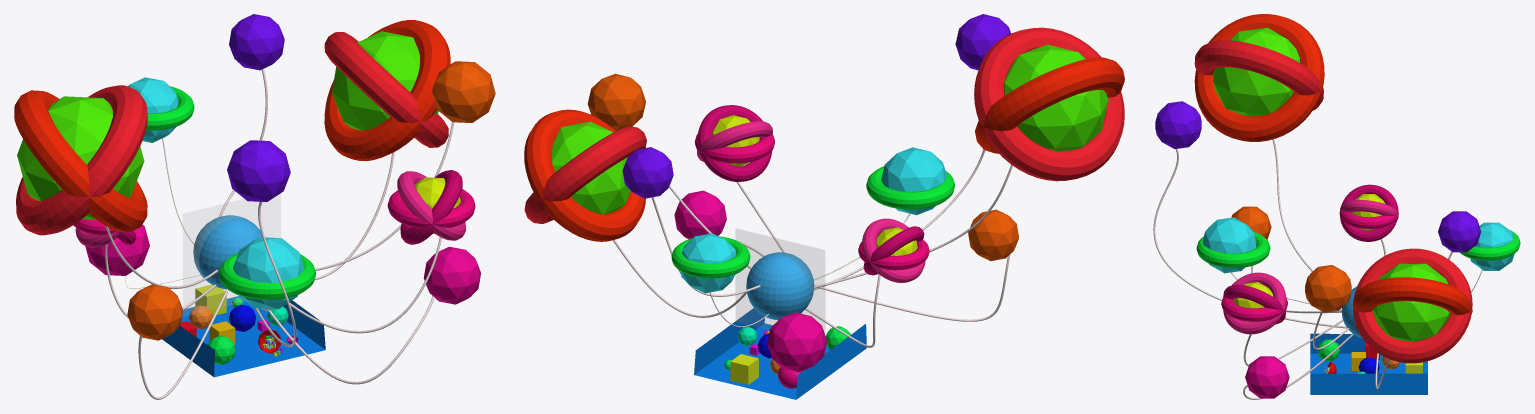
File: modelo.glb
3 renders of one model, left to right at view 1: azimuth 30°, elevation 25°; view 2: azimuth 150°, elevation 25°; view 3: azimuth 270°, elevation 25°, orthographic. The views are drawn at different scales.
Parts seen in each view (by area): view 1: Torus.007, Torus.009, Torus.006, Plane.001, Icosphere.015, Torus.005, Plane, Icosphere.011, Icosphere.013, Icosphere.014, Icosphere.012, Sphere (+24 smaller); view 2: Torus.007, Icosphere.015, Torus.006, Plane.001, Torus.009, Torus.005, Plane, Sphere, Icosphere.011, Icosphere.010, Icosphere.013, Icosphere.012 (+17 smaller); view 3: Torus.009, Torus.005, Plane.001, Icosphere.015, Torus.007, Icosphere.011, Torus.006, Icosphere.013, Icosphere.014, Icosphere.012, Icosphere.006, Icosphere.009 (+15 smaller).
Part boxes in pixels (bbox=[...]): Torus.007: bbox=[16, 85, 147, 235]; Torus.009: bbox=[14, 90, 147, 231]; Torus.006: bbox=[324, 20, 450, 161]; Plane.001: bbox=[162, 296, 325, 377]; Icosphere.015: bbox=[17, 96, 144, 219]; Torus.005: bbox=[324, 32, 448, 147]; Plane: bbox=[182, 194, 280, 316]; Icosphere.011: bbox=[332, 31, 438, 130]; Icosphere.013: bbox=[432, 61, 495, 122]; Icosphere.014: bbox=[227, 140, 290, 201]; Icosphere.012: bbox=[233, 237, 303, 309]; Sphere: bbox=[193, 215, 262, 289]; Torus.007: bbox=[974, 27, 1124, 181]; Icosphere.015: bbox=[1003, 44, 1108, 150]; Torus.006: bbox=[524, 109, 645, 241]; Plane.001: bbox=[694, 308, 866, 399]; Torus.009: bbox=[975, 57, 1124, 153]; Torus.005: bbox=[524, 126, 646, 223]; Plane: bbox=[735, 228, 825, 334]; Sphere: bbox=[746, 252, 814, 320]; Icosphere.011: bbox=[552, 121, 630, 214]; Icosphere.010: bbox=[767, 312, 826, 372]; Icosphere.013: bbox=[587, 73, 645, 130]; Icosphere.012: bbox=[881, 147, 946, 215]; Torus.009: bbox=[1194, 14, 1324, 141]; Torus.005: bbox=[1353, 248, 1472, 363]; Plane.001: bbox=[1310, 333, 1427, 394]; Icosphere.015: bbox=[1213, 27, 1300, 116]; Torus.007: bbox=[1194, 40, 1323, 110]; Icosphere.011: bbox=[1372, 263, 1450, 341]; Torus.006: bbox=[1352, 277, 1472, 315]; Icosphere.013: bbox=[1305, 265, 1351, 312]; Icosphere.014: bbox=[1155, 101, 1201, 148]; Icosphere.012: bbox=[1203, 217, 1256, 273]; Icosphere.006: bbox=[1245, 356, 1289, 398]; Icosphere.009: bbox=[1438, 211, 1481, 252].
Size of the model in its own units: 382 by 249 by 308.
